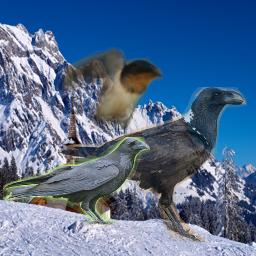Crow: (59, 87, 247, 242), (3, 137, 150, 225)
Swallow: (60, 47, 163, 130)
